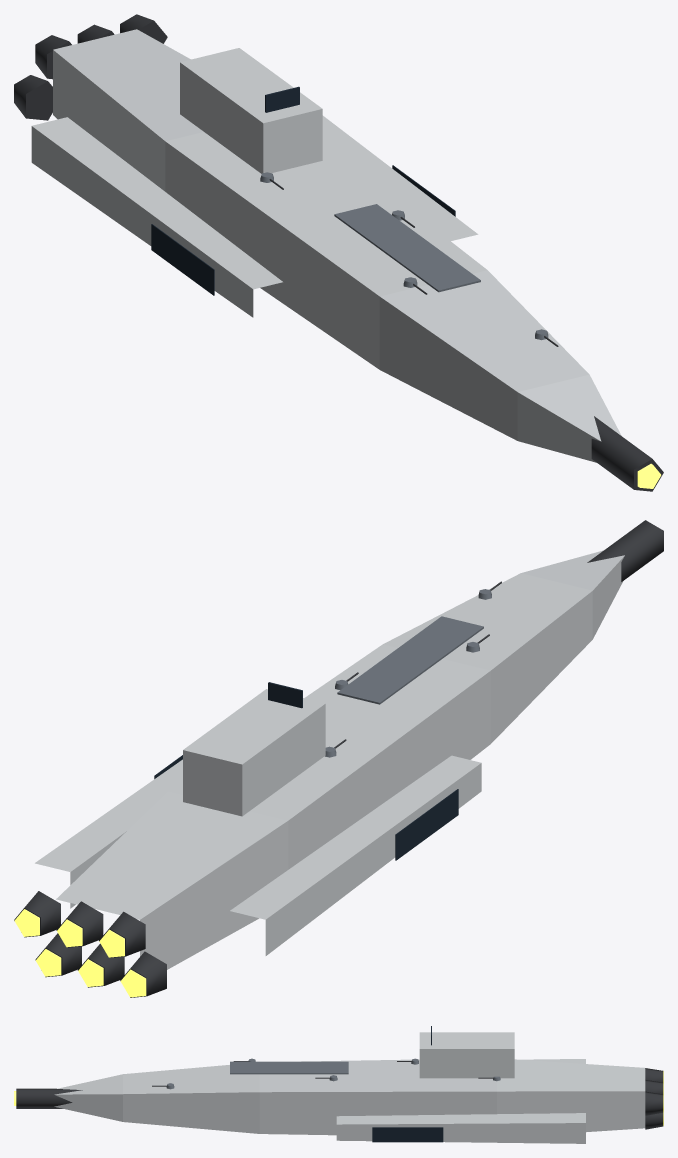
The model's file is space_ship_battleship_mk2_lod1.glb.
The picture shows the model from 3 angles, top to bottom: view 1: azimuth 30°, elevation 25°; view 2: azimuth 150°, elevation 25°; view 3: azimuth 270°, elevation 25°; orthographic projection. The views are drawn at different scales.
Visible parts, largest first — view 1: body, main_gun, hangar_r, engine_0, engine_1, engine_5; view 2: body, main_gun, hangar_r, engine_3, engine_1, engine_0, engine_5, engine_2, engine_4; view 3: body, hangar_l, main_gun, engine_5, engine_4, engine_1, engine_3.
Boxes of the visible parts, x1,y1,x2,y2 form: body: [31, 29, 621, 462]; main_gun: [591, 416, 663, 491]; hangar_r: [151, 224, 214, 295]; engine_0: [14, 75, 52, 120]; engine_1: [35, 35, 71, 79]; engine_5: [120, 14, 167, 43]; body: [35, 550, 624, 969]; main_gun: [587, 520, 663, 581]; hangar_r: [395, 789, 458, 860]; engine_3: [56, 901, 103, 947]; engine_1: [99, 911, 145, 957]; engine_0: [120, 951, 166, 997]; engine_5: [14, 891, 60, 937]; engine_2: [77, 943, 124, 987]; engine_4: [35, 933, 81, 977]; body: [54, 1026, 645, 1143]; hangar_l: [372, 1127, 443, 1142]; main_gun: [14, 1088, 82, 1108]; engine_5: [645, 1091, 663, 1115]; engine_4: [645, 1112, 663, 1129]; engine_1: [645, 1068, 663, 1083]; engine_3: [645, 1080, 663, 1094].
Bounding box in the file's own units: 28.5 × 19.21 × 117.
